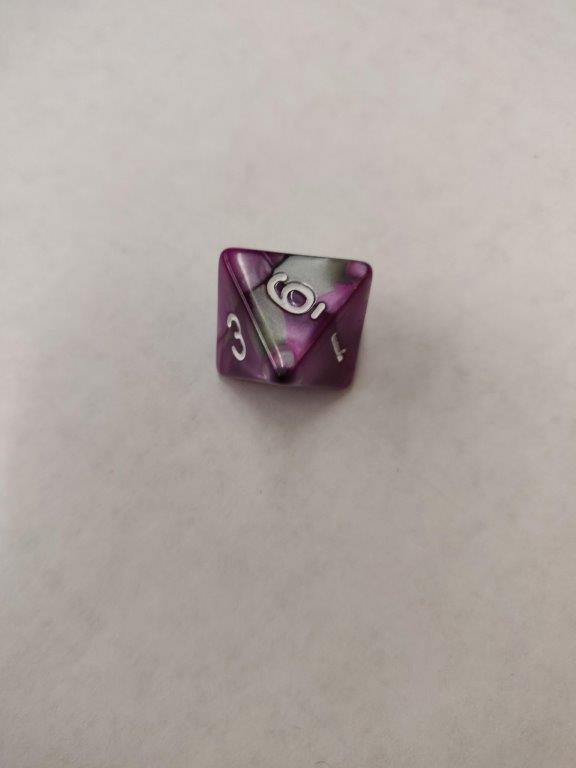d8-6: (215, 246, 372, 398)
